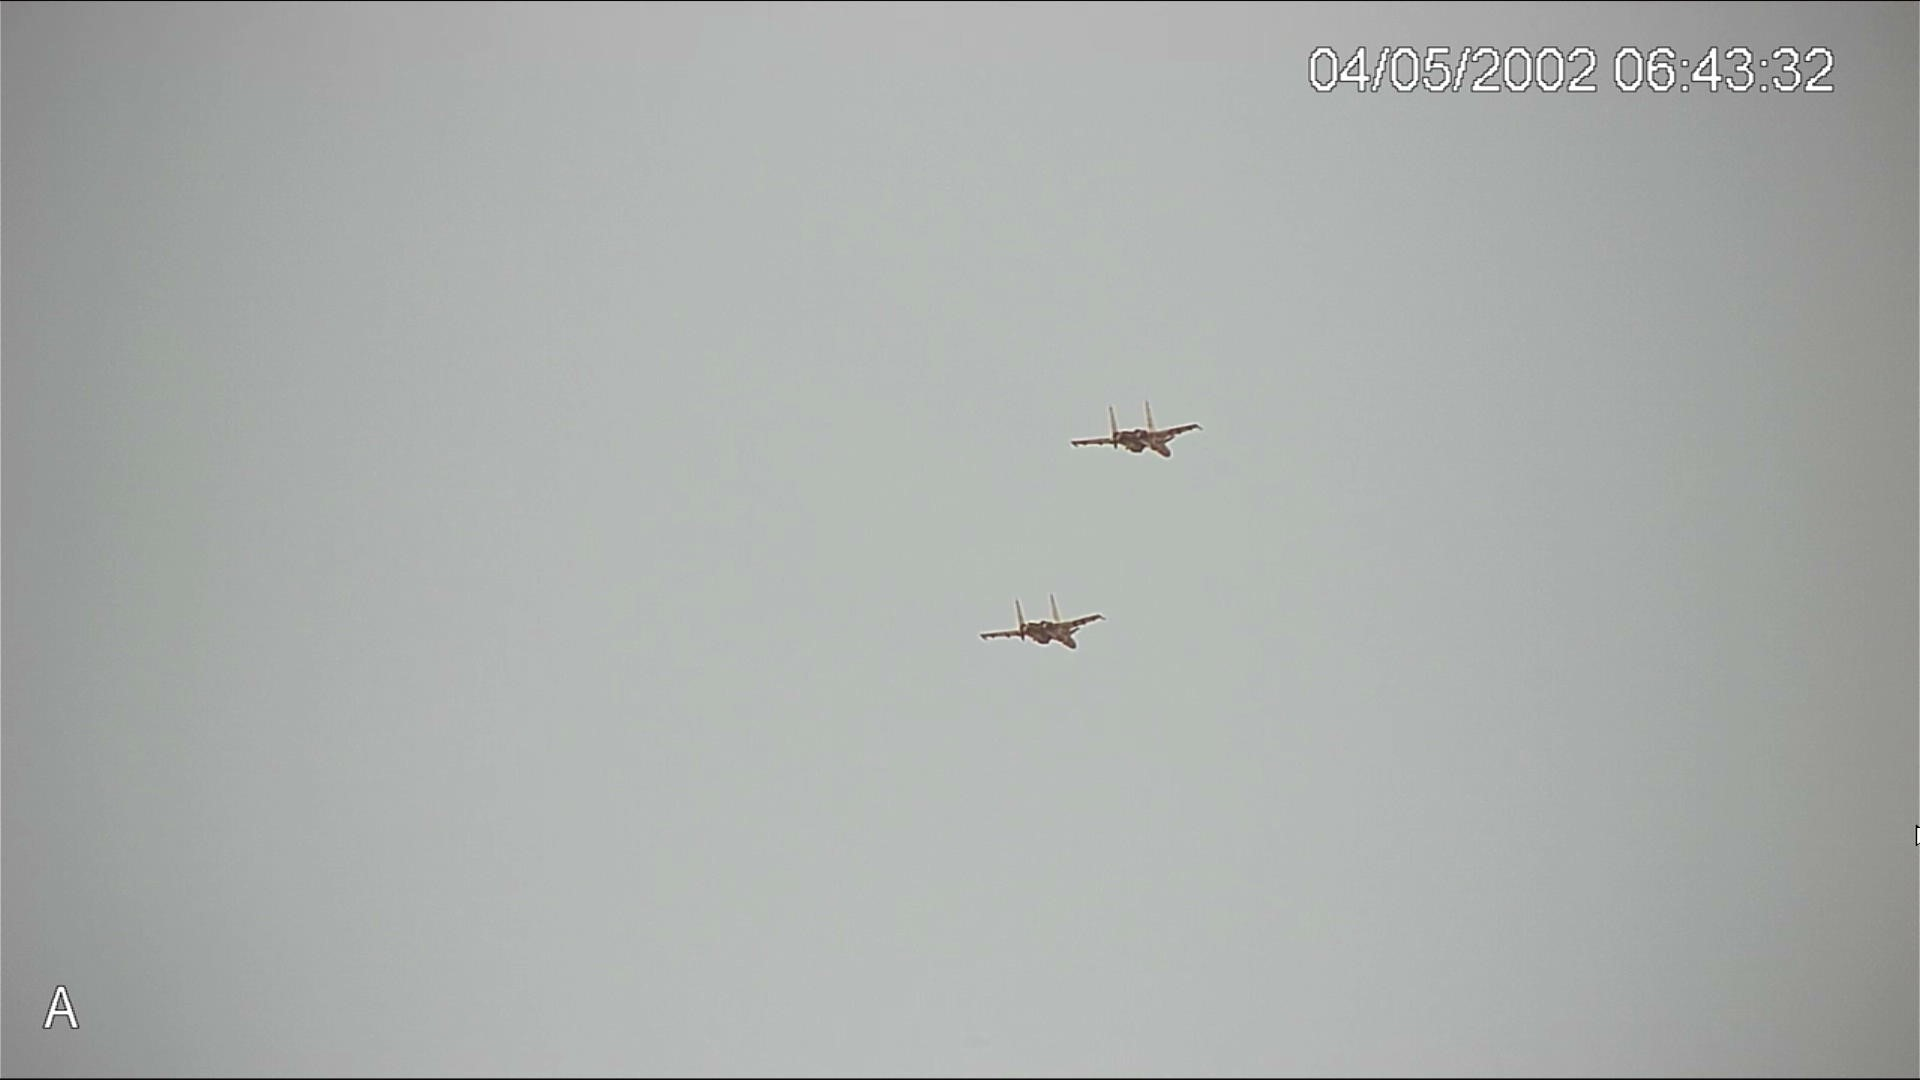SU_30: (1069, 402, 1212, 464), (982, 596, 1112, 654)
